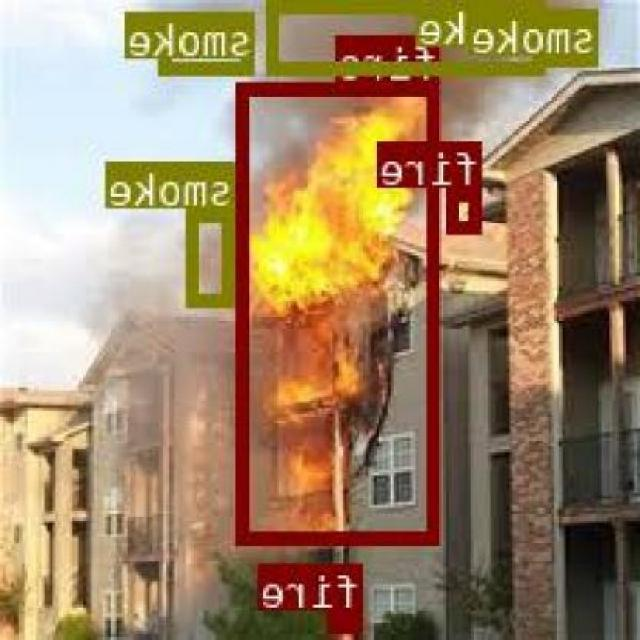Fire: (240, 80, 442, 542), (451, 186, 484, 232), (332, 611, 366, 631)
Smoke: (270, 0, 546, 71), (161, 12, 257, 72), (188, 208, 238, 302), (540, 8, 600, 63)
